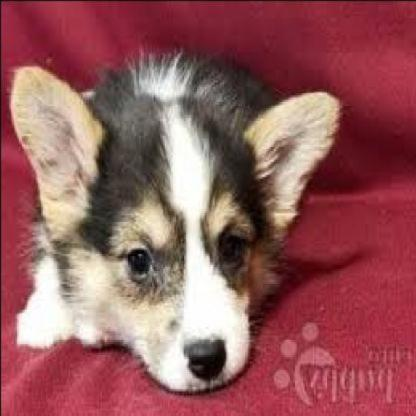dog: (8, 45, 342, 394)
